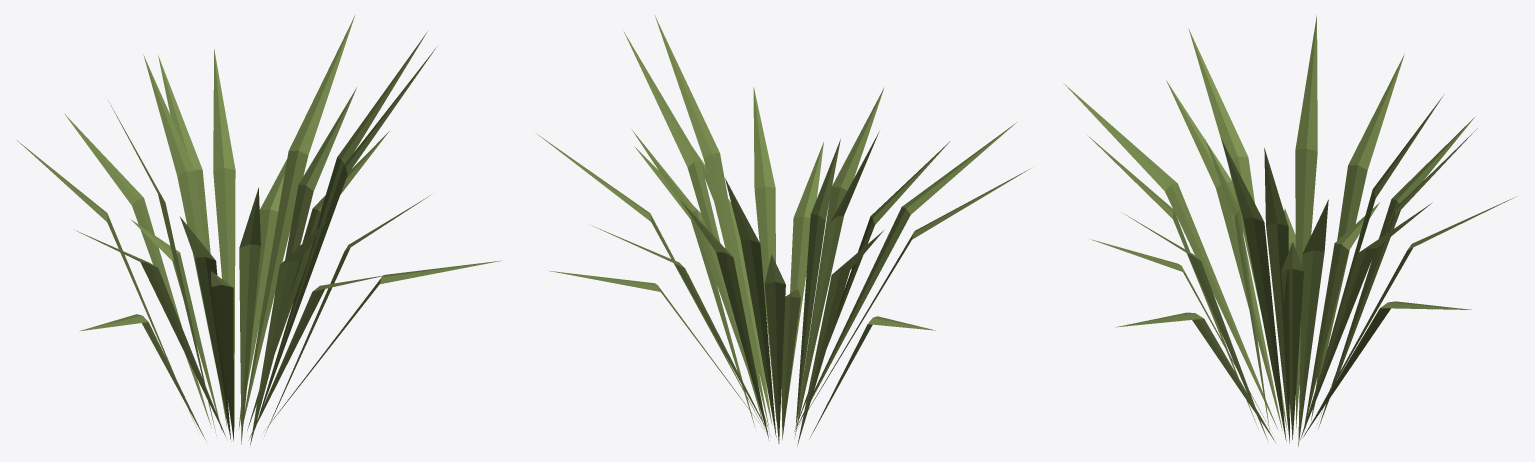
The model's file is grass_lod1.glb.
3 views of the same model, side by side, from view 1: azimuth 30°, elevation 25°; view 2: azimuth 150°, elevation 25°; view 3: azimuth 270°, elevation 25° (orthographic). The views are drawn at different scales.
Visible parts, largest first — view 1: grass; view 2: grass; view 3: grass.
Part boxes in pixels (x1,y1,x2,y2): grass: (17, 15, 501, 445); grass: (536, 15, 1030, 445); grass: (1063, 15, 1516, 446).
Size of the model in its own units: 0.7942 by 0.7045 by 0.7643.
